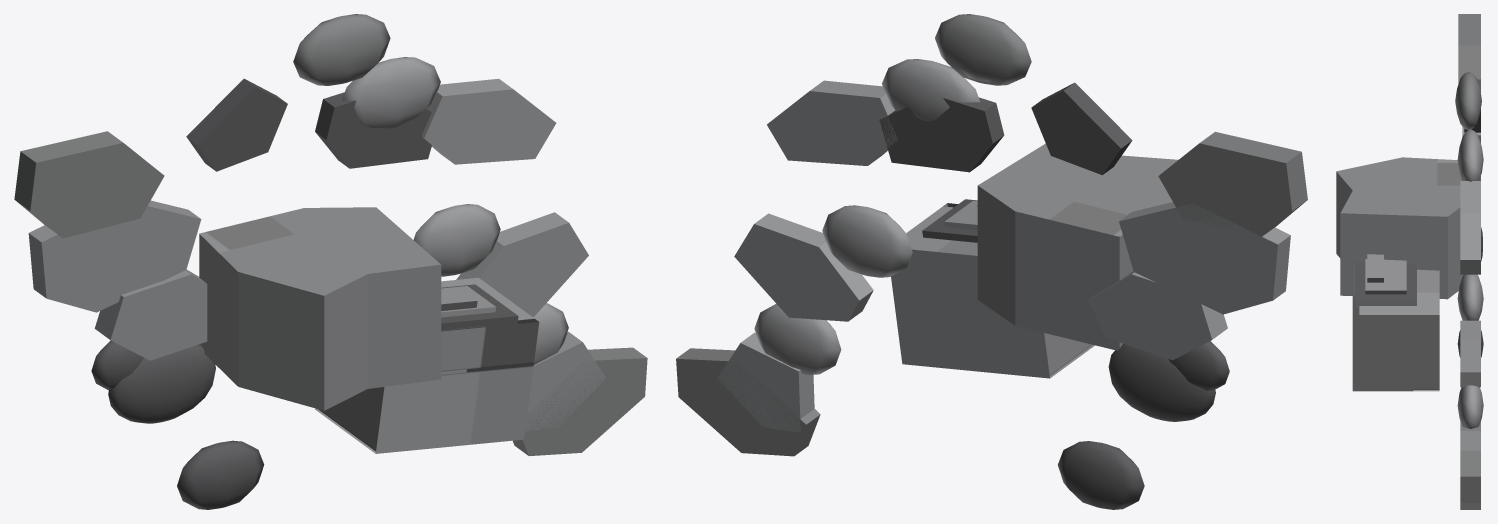
The picture shows the model from 3 angles, left to right: view 1: azimuth 30°, elevation 25°; view 2: azimuth 150°, elevation 25°; view 3: azimuth 270°, elevation 25°; orthographic projection. The views are drawn at different scales.
Bounding box in the file's own units: 1.14 × 0.8622 × 0.328.
